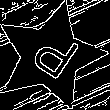P_SW: (20, 25, 80, 87)
